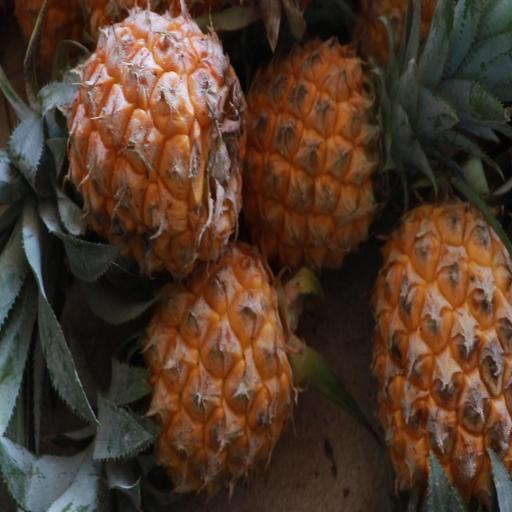Pineapple - v8 v1: (0, 0, 254, 294), (122, 234, 309, 508), (364, 192, 511, 512), (238, 25, 416, 281)
